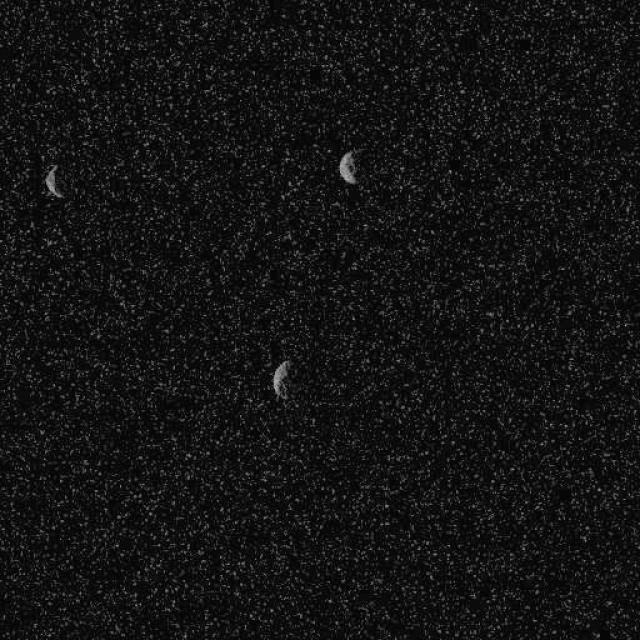D2: (271, 359, 291, 400), (42, 162, 64, 198), (338, 149, 358, 185)
